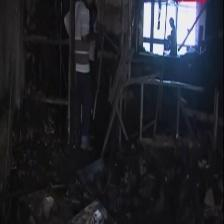fire: (6, 102, 60, 177), (47, 45, 63, 62)
